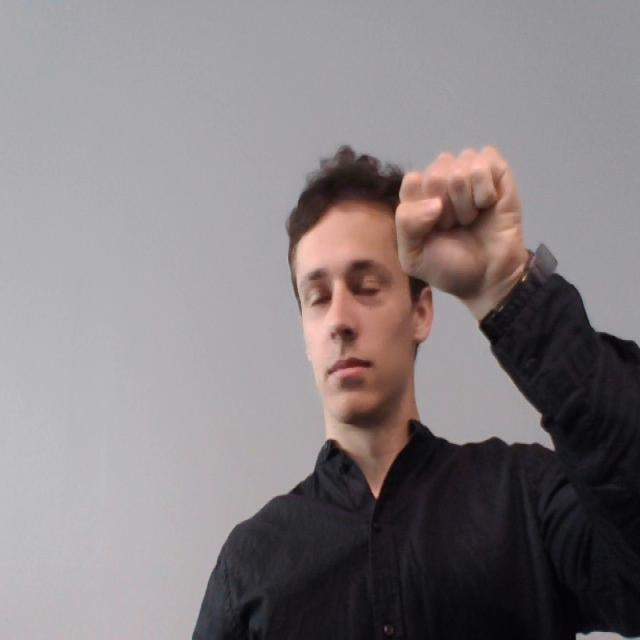stop: (393, 142, 538, 316)
